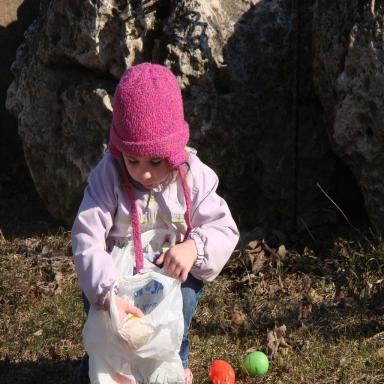plasticbag: (82, 228, 185, 383)
